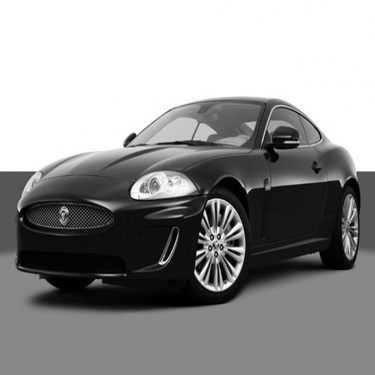car: (7, 83, 365, 311)
